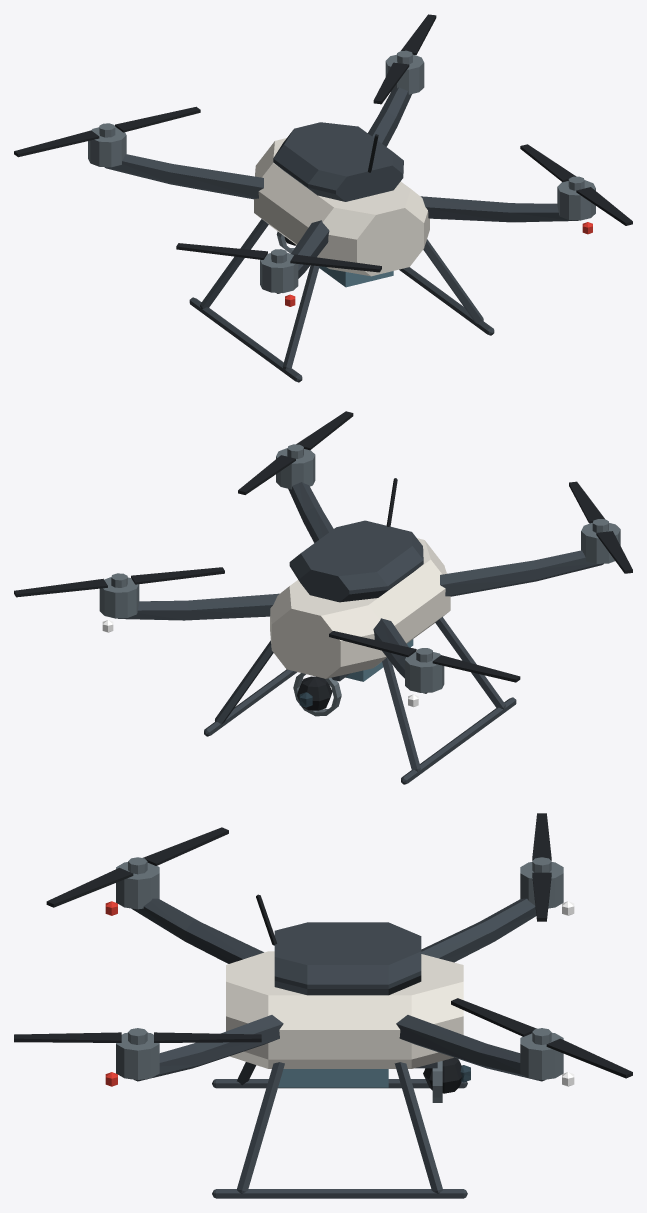
Rendered from AIR_07.obj.
3 views of the same model, one above another, from view 1: azimuth 30°, elevation 25°; view 2: azimuth 150°, elevation 25°; view 3: azimuth 270°, elevation 25° (orthographic). The views are drawn at different scales.
Parts seen in each view (by area): view 1: body, body_top, landing_gear, arm_1, arm_3, rotor_4, rotor_1, rotor_3, rotor_2, arm_2, motor_4, motor_1 (+4 smaller); view 2: body, body_top, landing_gear, arm_4, arm_2, rotor_2, rotor_1, rotor_3, rotor_4, motor_2, arm_3, motor_1 (+5 smaller); view 3: body, body_top, landing_gear, arm_2, arm_4, arm_1, arm_3, rotor_3, rotor_4, rotor_2, battery, rotor_1 (+5 smaller).
Boxes of the visible parts, x1,y1,x2,y2 form: body: (254, 138, 429, 276); body_top: (273, 122, 403, 201); landing_gear: (189, 219, 494, 382); arm_1: (104, 154, 263, 199); arm_3: (420, 196, 578, 222); rotor_4: (176, 243, 381, 272); rotor_1: (14, 106, 200, 157); rotor_3: (520, 144, 632, 225); rotor_2: (373, 14, 436, 104); arm_2: (368, 87, 411, 146); motor_4: (260, 252, 298, 292); motor_1: (88, 127, 126, 167); body: (270, 538, 450, 678); body_top: (289, 520, 423, 602); landing_gear: (204, 617, 516, 784); arm_4: (440, 550, 603, 596); arm_2: (117, 593, 279, 620); rotor_2: (14, 567, 224, 597); rotor_1: (329, 631, 520, 682); rotor_3: (238, 411, 353, 494); rotor_4: (569, 481, 632, 573); motor_2: (99, 577, 139, 618); arm_3: (288, 482, 333, 542); motor_1: (405, 651, 444, 692); body: (226, 951, 463, 1068); body_top: (274, 922, 421, 995); landing_gear: (212, 1062, 467, 1198); arm_2: (396, 1015, 545, 1081); arm_4: (131, 898, 263, 963); arm_1: (421, 898, 536, 962); arm_3: (134, 1015, 283, 1081); rotor_3: (14, 1028, 261, 1044); rotor_4: (46, 827, 228, 907); rotor_2: (451, 998, 632, 1078); battery: (278, 1069, 388, 1087); rotor_1: (532, 813, 551, 921).
Bounding box in the file's own units: 1.9 × 0.8421 × 1.9.
